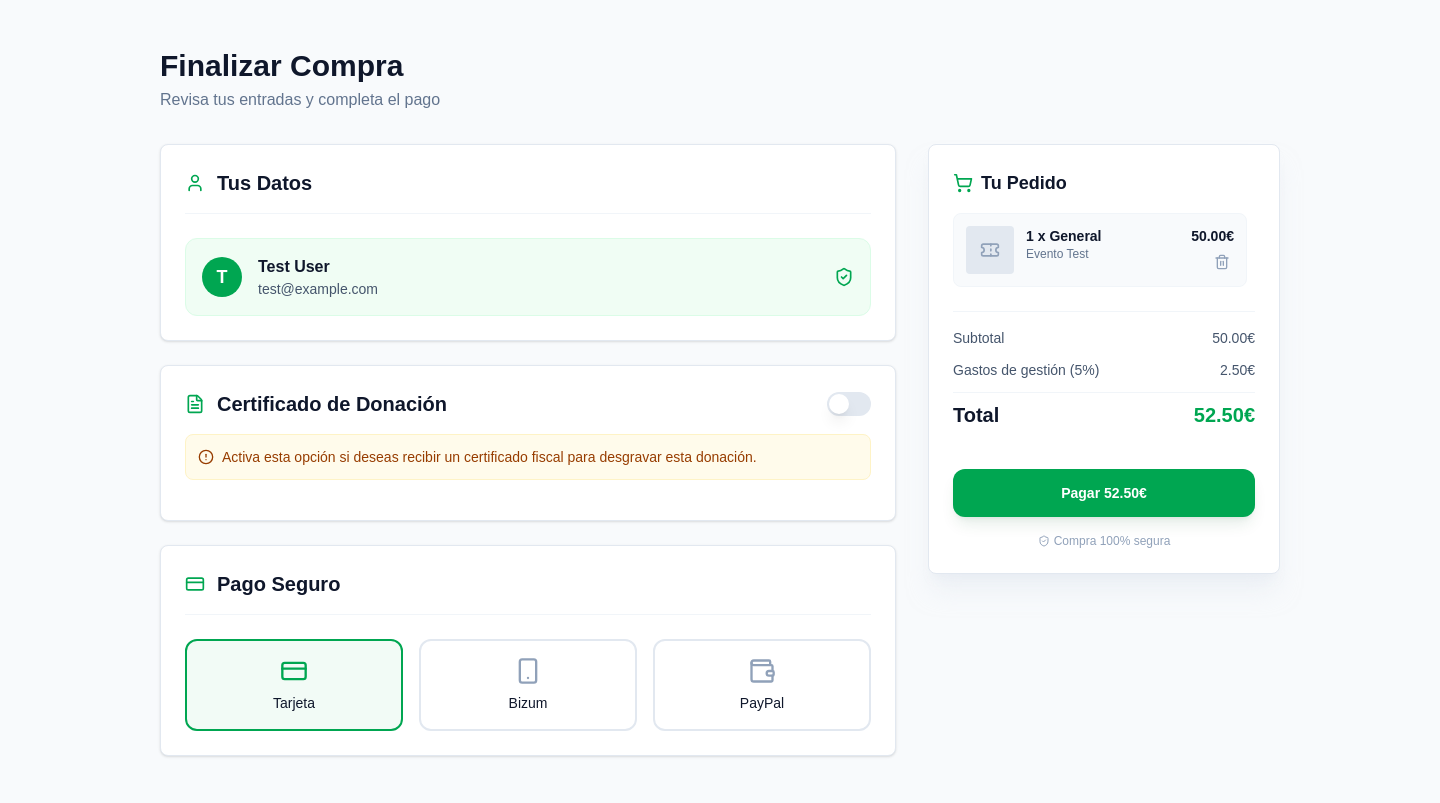
Test: Checkout - Branches Coverage › Solicitar certificado de donación › debe mostrar formulario si no hay datos fiscales y se activa certificado
Expected: the heading "Certificado de Donación" is shown, [217,390,447,418]
Click the switch at {"x": 849, "y": 404}, box [827,392,871,416]
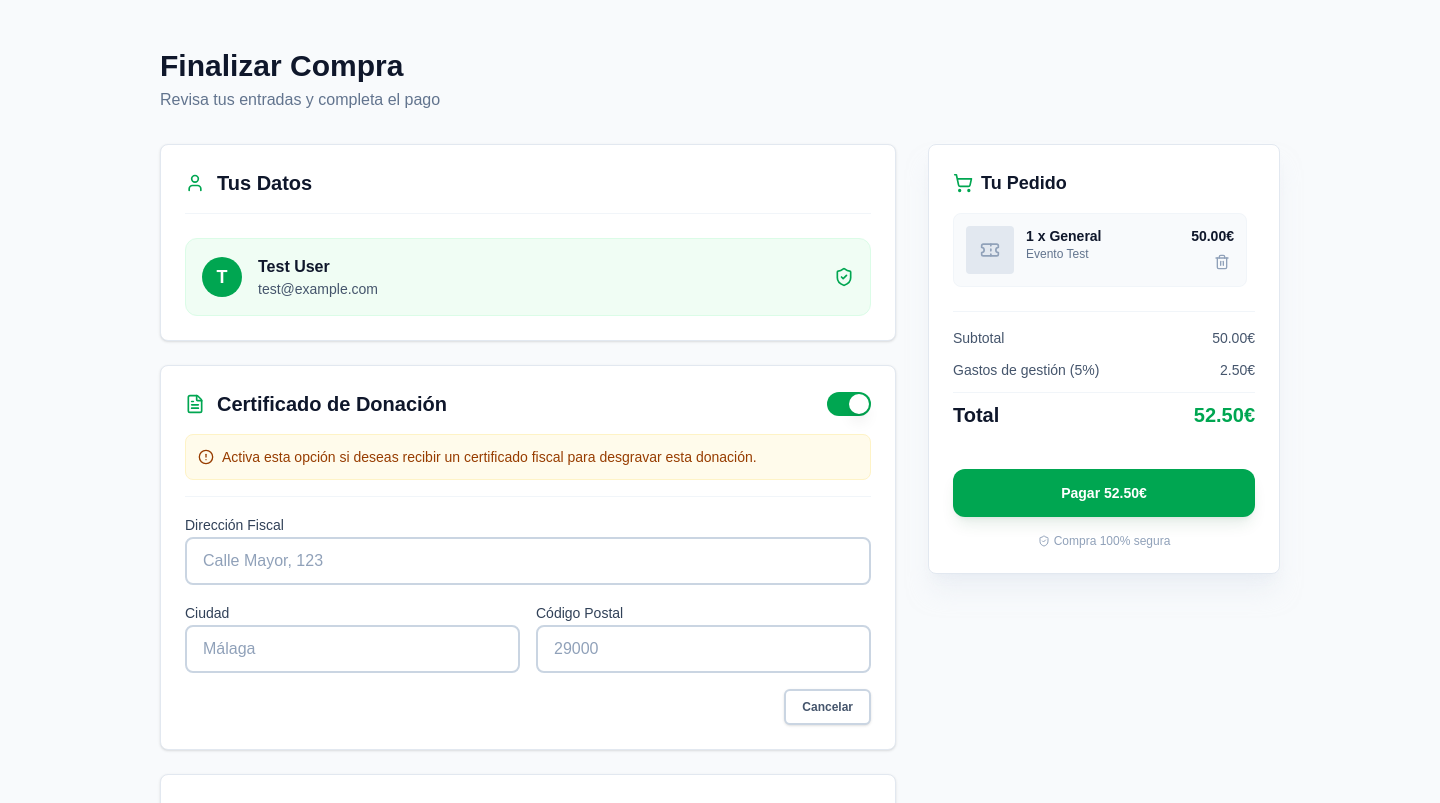
Now the text "Dirección Fiscal" is shown, box [185,517,284,533]
